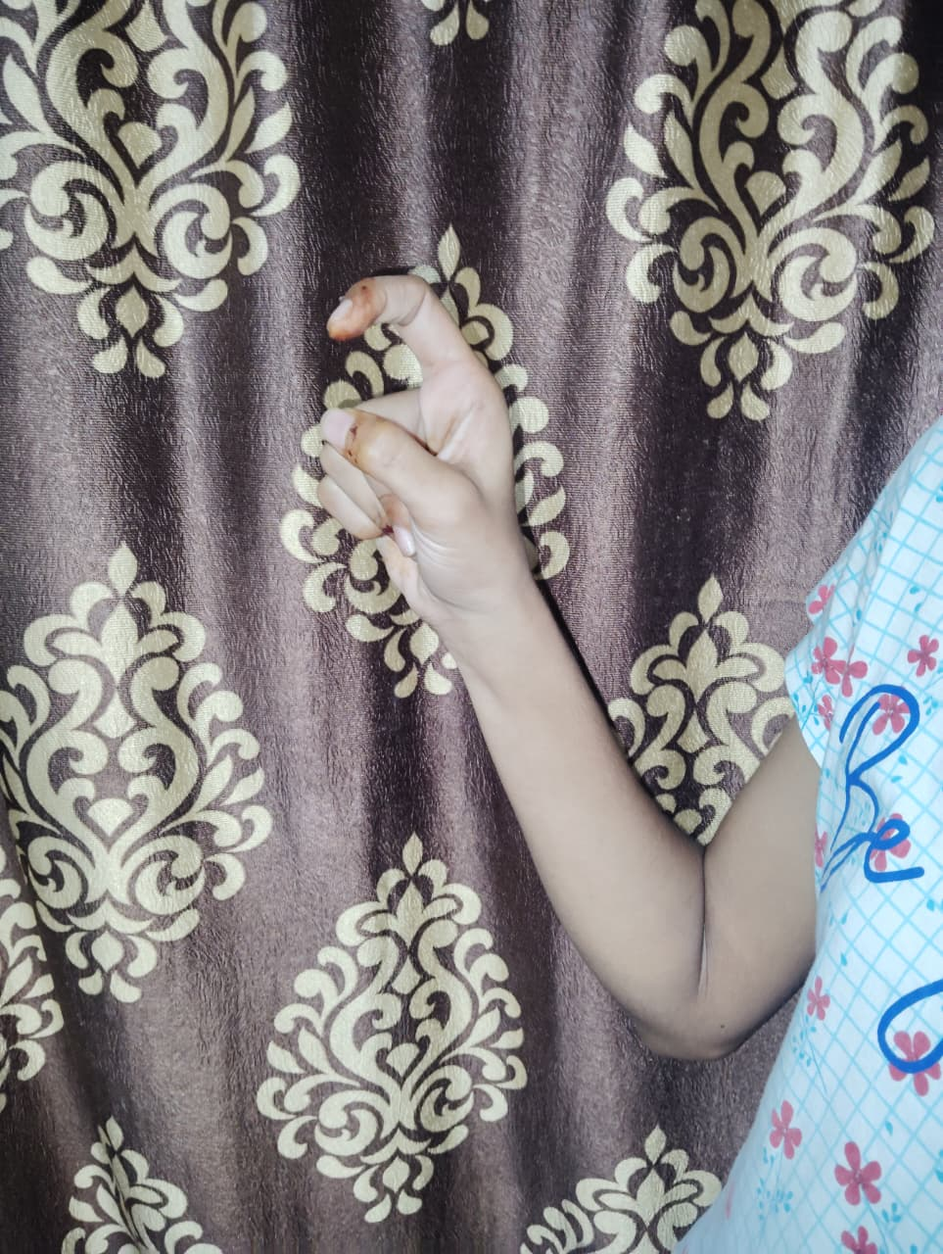X: (314, 270, 522, 625)
